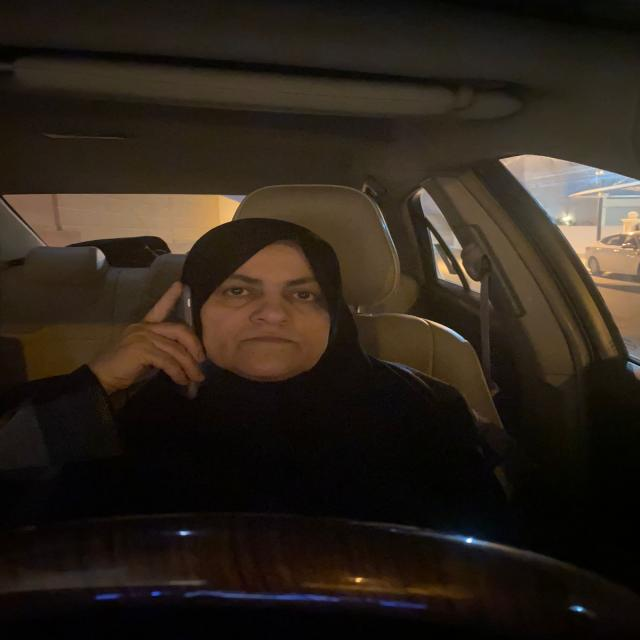mobile: (164, 284, 207, 408)
person: (205, 223, 332, 379)
